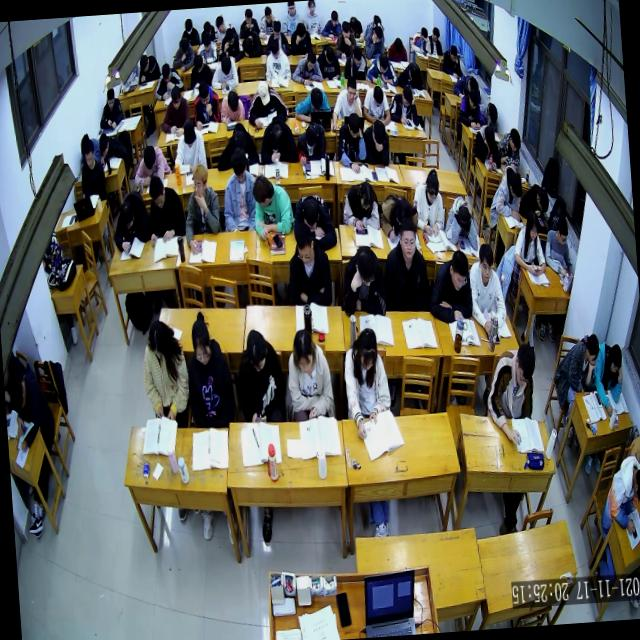bow: (290, 189, 338, 252), (110, 188, 152, 256), (212, 116, 260, 174), (244, 76, 288, 130), (256, 111, 298, 166), (442, 194, 481, 252), (376, 189, 420, 240), (130, 141, 173, 191), (291, 84, 333, 122), (290, 49, 323, 88), (364, 49, 396, 89), (517, 180, 550, 218), (96, 128, 128, 164), (394, 60, 424, 94), (452, 72, 482, 103), (136, 52, 161, 84), (240, 28, 264, 58), (347, 13, 364, 42)
down: (8, 363, 57, 453), (290, 326, 316, 374), (512, 342, 537, 391), (352, 242, 378, 288), (354, 327, 379, 374), (244, 328, 268, 375), (190, 318, 213, 367), (448, 247, 470, 293), (294, 222, 315, 268), (147, 319, 168, 362), (146, 172, 166, 211), (300, 194, 321, 230), (230, 148, 248, 185), (10, 374, 28, 410), (356, 178, 375, 210), (118, 199, 136, 232), (585, 330, 601, 367), (606, 342, 623, 375), (455, 202, 472, 234), (268, 122, 286, 152), (140, 142, 158, 172), (424, 172, 440, 204), (369, 117, 386, 147), (628, 465, 640, 506), (524, 210, 540, 240), (507, 170, 523, 200), (392, 199, 410, 225), (346, 110, 362, 139), (181, 119, 197, 148), (555, 215, 570, 245), (256, 78, 271, 107), (303, 122, 319, 148), (230, 127, 247, 151), (535, 185, 549, 214), (169, 83, 183, 112), (82, 140, 95, 170), (309, 86, 324, 112), (423, 222, 441, 243), (483, 121, 496, 150), (345, 74, 358, 103), (508, 128, 522, 154), (197, 80, 211, 106), (97, 132, 110, 158), (268, 36, 282, 60), (400, 84, 414, 108), (226, 89, 240, 112), (371, 83, 384, 107), (294, 20, 308, 41), (486, 100, 498, 124), (468, 86, 480, 110), (138, 52, 151, 74), (192, 52, 205, 74), (466, 73, 480, 93), (377, 51, 389, 74), (160, 62, 172, 84), (324, 44, 336, 66), (408, 62, 420, 84), (371, 24, 384, 44), (105, 86, 116, 109), (220, 55, 232, 76), (352, 46, 363, 68), (178, 36, 190, 56), (224, 26, 236, 46), (270, 20, 282, 40), (306, 50, 318, 70), (392, 36, 404, 56), (202, 32, 212, 54), (448, 42, 458, 62), (263, 5, 273, 25), (329, 8, 339, 28), (418, 25, 428, 44), (184, 17, 194, 36), (244, 7, 254, 26), (430, 26, 440, 43)
lookup: (396, 214, 418, 261), (190, 161, 210, 200), (478, 242, 496, 284), (340, 20, 350, 40), (286, 2, 296, 18), (306, 0, 316, 16)
sit: (482, 338, 542, 449), (182, 309, 236, 432), (339, 324, 394, 442), (138, 316, 192, 431), (282, 323, 336, 426), (232, 326, 286, 425), (379, 212, 430, 314), (284, 216, 332, 306), (178, 160, 222, 254), (466, 240, 508, 338), (338, 241, 388, 321), (424, 245, 474, 324), (218, 145, 260, 231), (597, 454, 640, 536), (250, 170, 296, 242), (550, 330, 602, 393), (144, 168, 187, 244), (509, 208, 546, 279), (484, 160, 524, 222), (592, 340, 626, 412), (332, 110, 368, 176), (410, 170, 445, 237), (340, 177, 380, 231), (170, 119, 207, 177), (328, 74, 364, 132), (542, 212, 574, 274), (77, 137, 107, 203), (158, 82, 192, 136), (190, 79, 222, 132), (386, 80, 420, 128), (472, 119, 502, 173), (293, 120, 327, 166), (362, 116, 391, 168), (261, 35, 292, 81), (361, 80, 391, 126), (152, 59, 184, 101), (495, 127, 524, 173), (456, 85, 484, 131), (97, 82, 124, 128), (209, 52, 239, 92), (332, 18, 358, 62), (314, 39, 342, 79), (187, 51, 215, 89), (341, 44, 368, 83), (218, 86, 245, 125), (263, 18, 290, 56), (217, 24, 244, 61), (170, 34, 196, 72), (194, 27, 219, 65), (287, 18, 313, 54), (235, 6, 260, 42), (361, 21, 385, 58), (440, 40, 463, 77), (300, 0, 322, 36), (280, 1, 302, 36), (320, 8, 344, 40), (179, 14, 201, 47), (258, 4, 278, 40), (478, 99, 499, 133), (408, 25, 430, 55), (386, 34, 407, 62), (426, 26, 444, 57)
